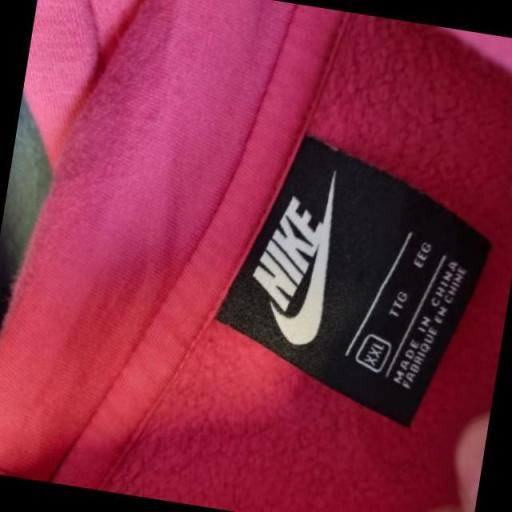Nike: (249, 196, 327, 310), (287, 203, 341, 347)
